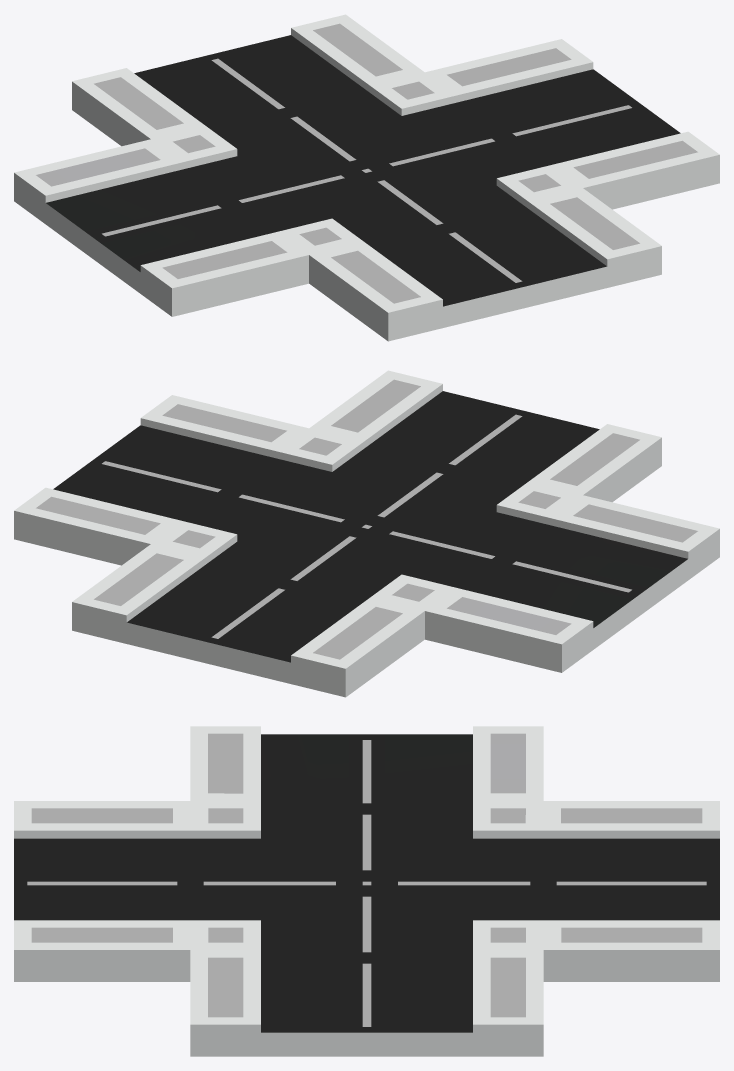
Rendered from duong nga 4.fbx.
3 views of the same model, one above another, from view 1: azimuth 30°, elevation 25°; view 2: azimuth 150°, elevation 25°; view 3: azimuth 270°, elevation 25° (orthographic). The views are drawn at different scales.
Parts seen in each view (by area): view 1: duogn_nga_4; view 2: duogn_nga_4; view 3: duogn_nga_4.
Part boxes in pixels (x1,y1,x2,y2): duogn_nga_4: (14, 14, 719, 341); duogn_nga_4: (14, 370, 719, 697); duogn_nga_4: (14, 726, 719, 1056).
Size of the model in its own units: 40 by 2 by 40.
1 material, 1 textured.
